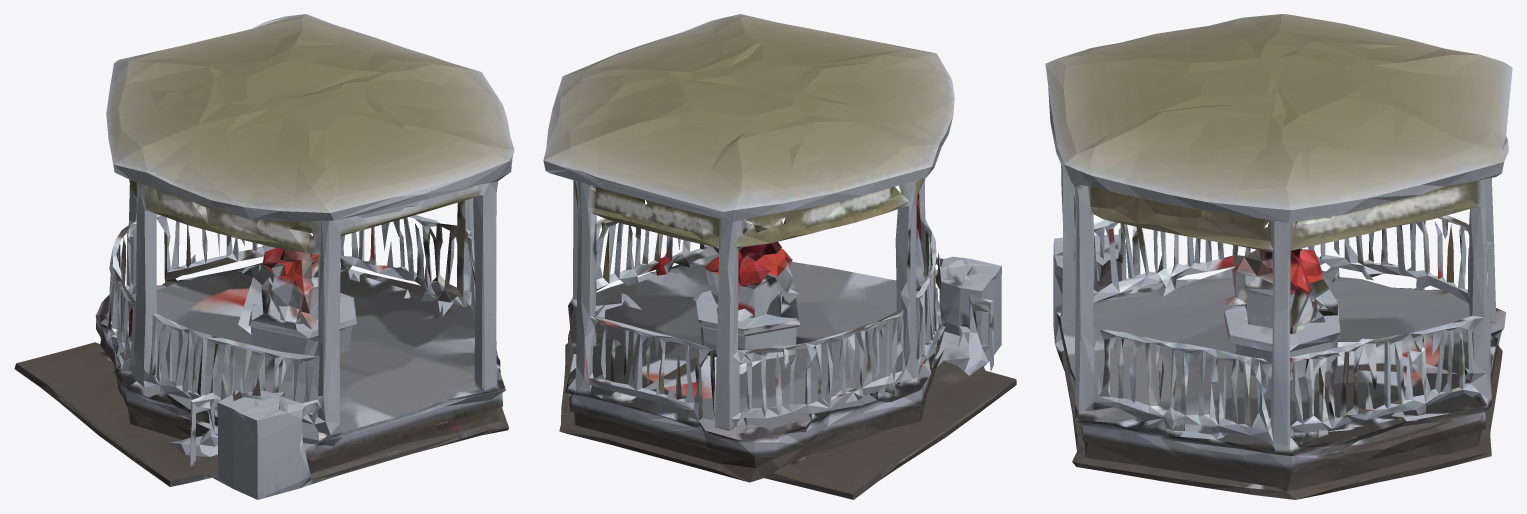
File: pabellon_lago.glb
The picture shows the model from 3 angles, left to right: view 1: azimuth 30°, elevation 25°; view 2: azimuth 150°, elevation 25°; view 3: azimuth 270°, elevation 25°; orthographic projection. The views are drawn at different scales.
Visible parts, largest first — view 1: tmp5gmovghk.ply; view 2: tmp5gmovghk.ply; view 3: tmp5gmovghk.ply.
Part boxes in pixels (x1,y1,x2,y2): tmp5gmovghk.ply: [14, 14, 514, 499]; tmp5gmovghk.ply: [543, 14, 1016, 499]; tmp5gmovghk.ply: [1045, 14, 1512, 499].
Bounding box in the file's own units: 2 × 1.48 × 1.92.
1 material, 1 textured.
